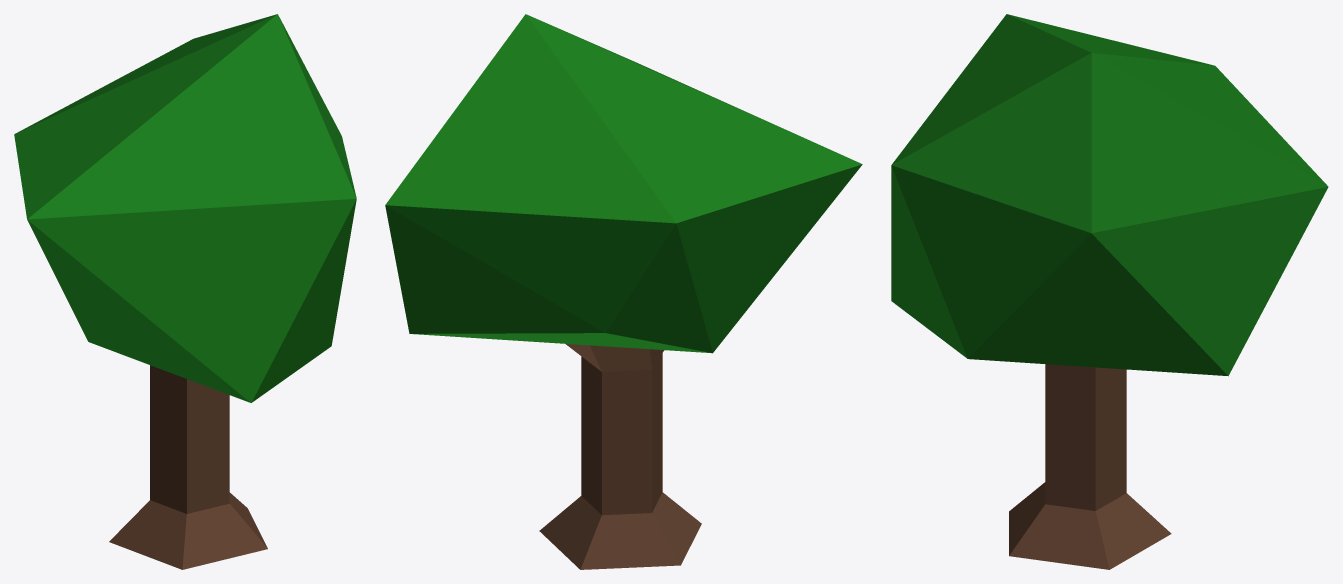
File: tree.glb
The picture shows the model from 3 angles, left to right: view 1: azimuth 30°, elevation 25°; view 2: azimuth 150°, elevation 25°; view 3: azimuth 270°, elevation 25°; orthographic projection. The views are drawn at different scales.
Parts seen in each view (by area): view 1: tree; view 2: tree; view 3: tree.
Part boxes in pixels (bbox=[...]): tree: bbox=[14, 14, 356, 569]; tree: bbox=[385, 14, 862, 569]; tree: bbox=[891, 14, 1328, 569].
Size of the model in its own units: 2.43 by 3.24 by 2.43.
